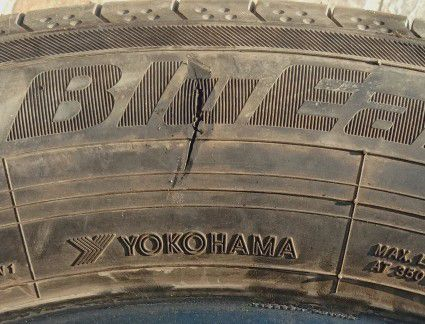cut: (176, 80, 206, 180)
